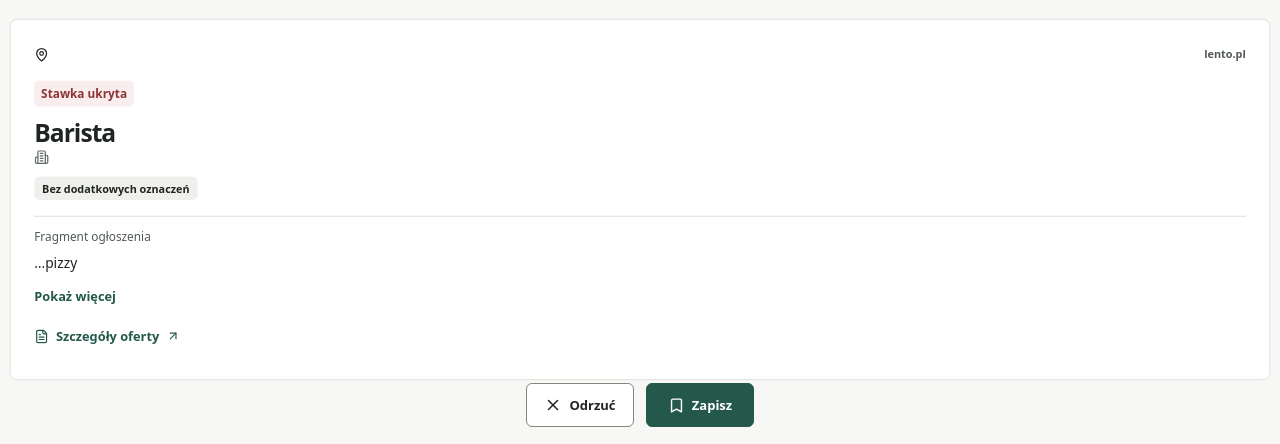
swipe card transitions › marks the beginning of an excerpt from lento.pl before and after expanding
The image size is (1280, 444).
Expected: the text with class "job-description-source-note" reads "Fragment ogłoszenia", x1=34 y1=229 x2=151 y2=246
What coordinates should you click on to do the following:
click the button with class "job-description-toggle"
I would click on:
 (75, 297)
Its box is x1=34 y1=277 x2=116 y2=316.
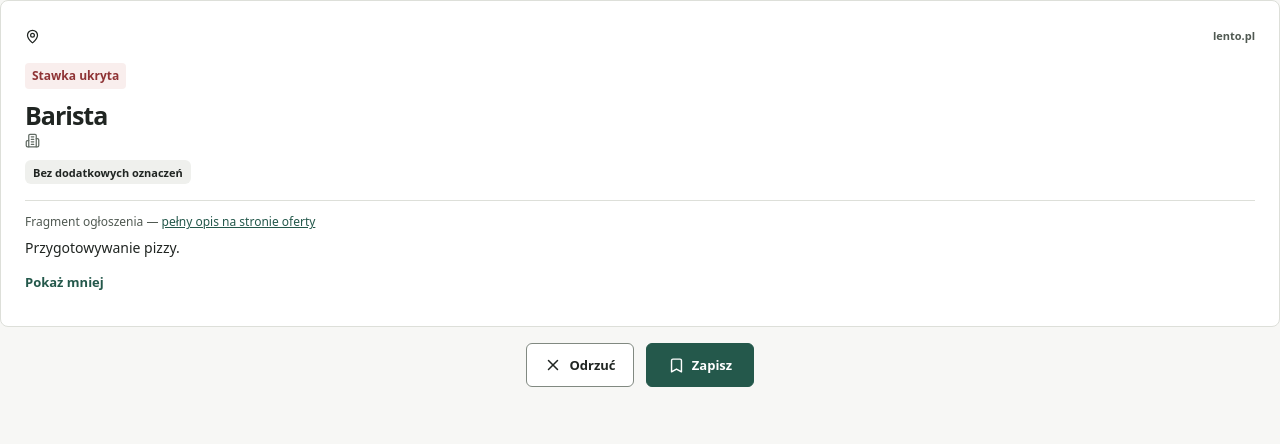
Expected: the number of elements with class "job-description-source-note" is 1, x1=25 y1=213 x2=315 y2=230
Now the text "Przygotowywanie pizzy." is shown, box x1=25 y1=238 x2=180 y2=257
